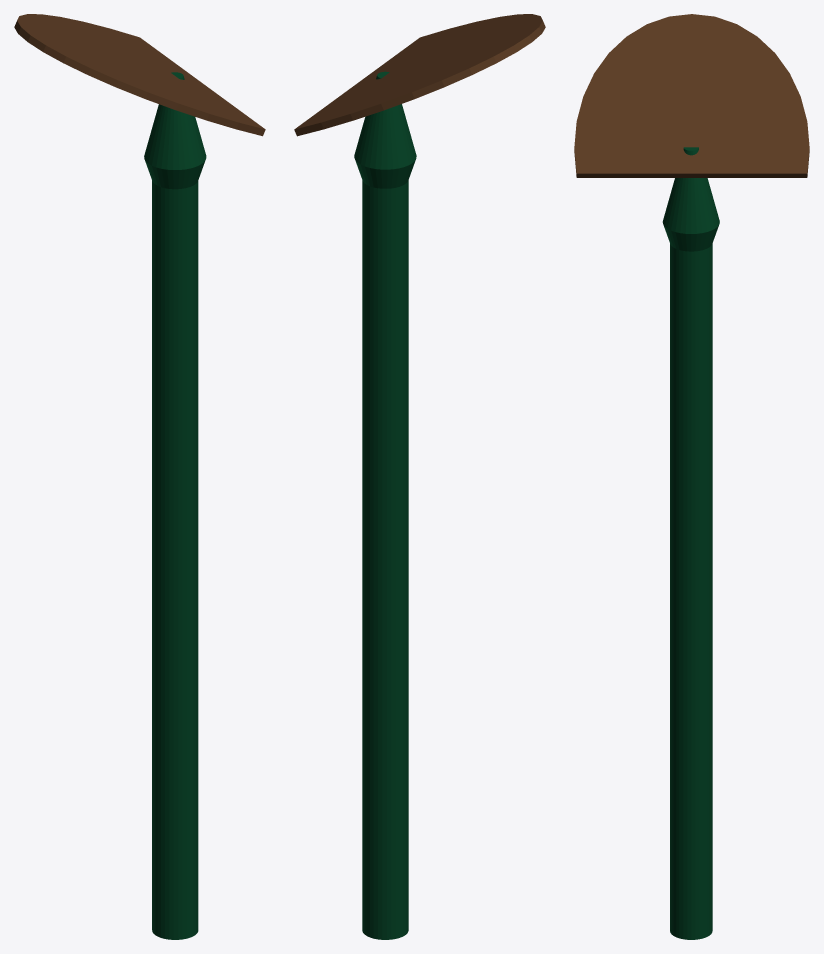
Rendered from schoffel1.fbx.
3 renders of one model, left to right at view 1: azimuth 30°, elevation 25°; view 2: azimuth 150°, elevation 25°; view 3: azimuth 270°, elevation 25°, orthographic. The views are drawn at different scales.
Parts seen in each view (by area): view 1: Cylinder, Circle; view 2: Cylinder, Circle; view 3: Cylinder, Circle.
Part boxes in pixels (x1,y1,x2,y2): Cylinder: [144, 72, 206, 939]; Circle: [14, 14, 265, 136]; Cylinder: [354, 71, 416, 939]; Circle: [294, 14, 545, 136]; Cylinder: [662, 147, 719, 939]; Circle: [574, 14, 809, 177].
Size of the model in its own units: 172 by 871 by 218.
